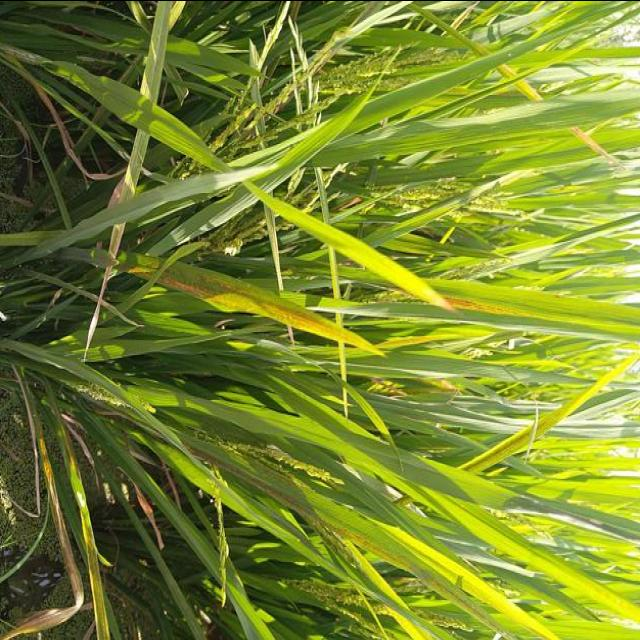Leaf Streak: (188, 445, 495, 624), (155, 260, 384, 357), (112, 251, 164, 277), (446, 298, 484, 310)
